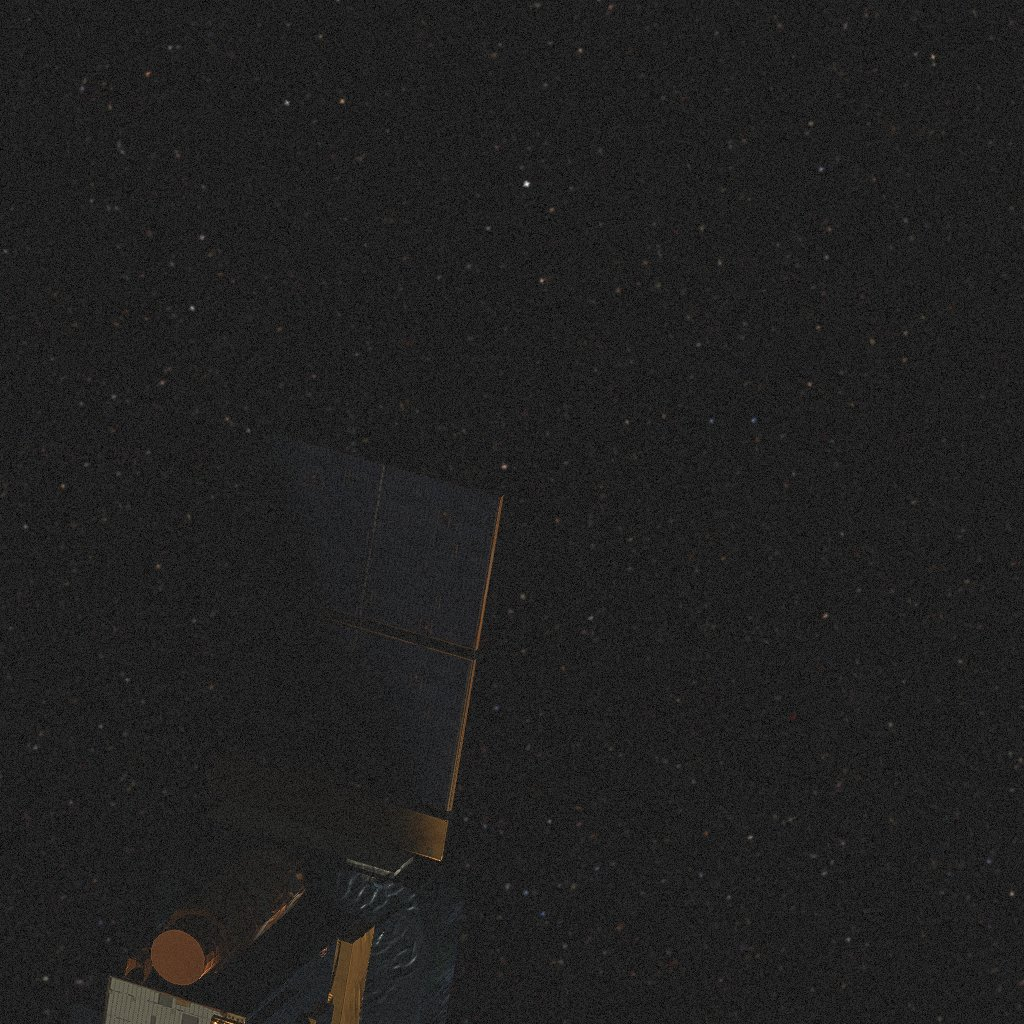soho: (70, 430, 504, 1024)
